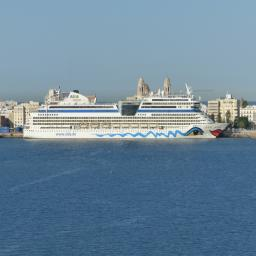cruises: (25, 92, 230, 142)
